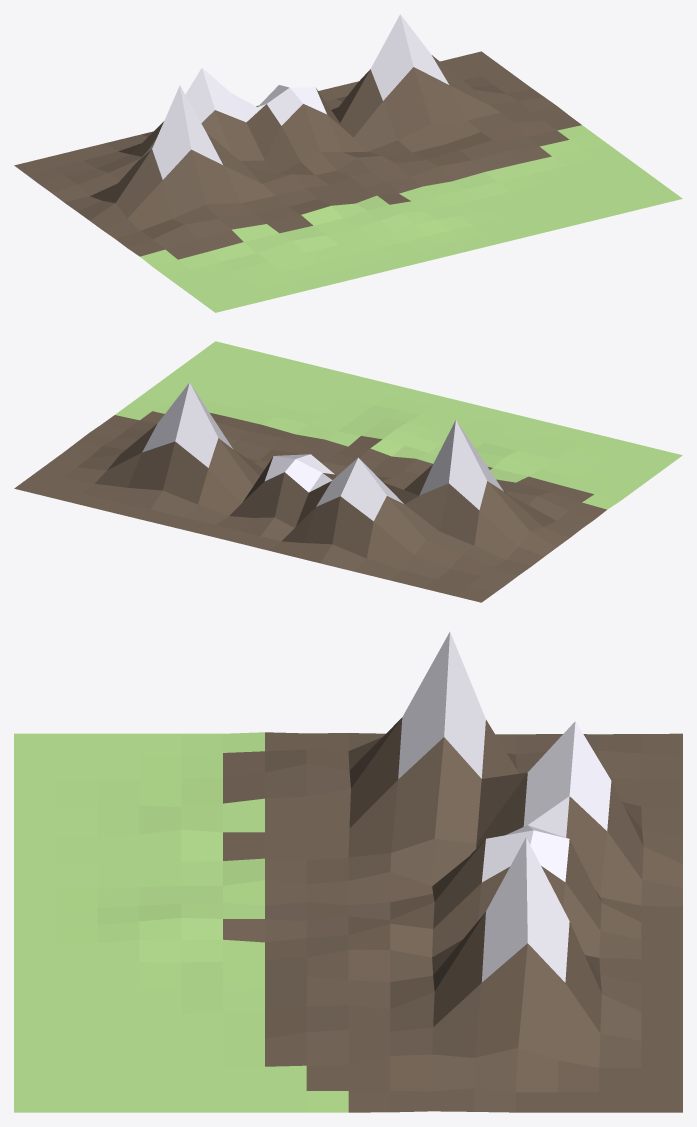
The model's file is mountain_large.glb.
3 views of the same model, one above another, from view 1: azimuth 30°, elevation 25°; view 2: azimuth 150°, elevation 25°; view 3: azimuth 270°, elevation 25° (orthographic). The views are drawn at different scales.
Parts seen in each view (by area): view 1: Sahne; view 2: Sahne; view 3: Sahne.
Part boxes in pixels (<box>): Sahne: <box>14,14,682,312</box>; Sahne: <box>14,341,682,602</box>; Sahne: <box>14,632,682,1112</box>.
Bounding box in the file's own units: 53.6 × 11.92 × 40.
